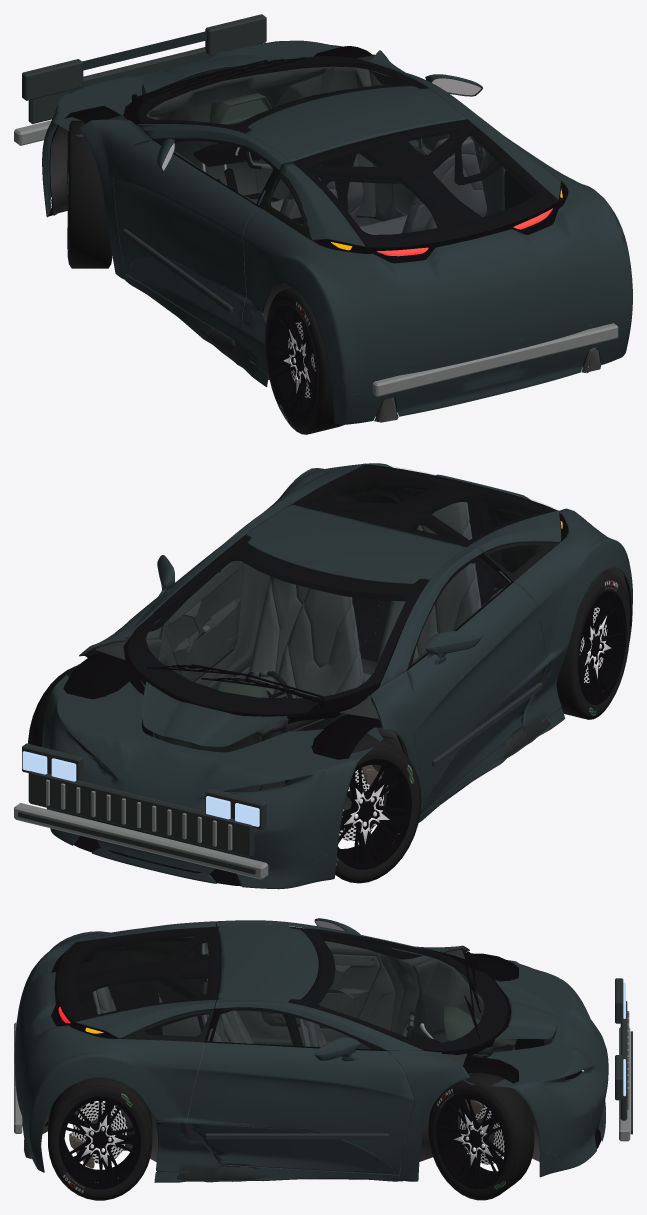
The model's file is cruiser-r1.glb.
3 renders of one model, top to bottom at view 1: azimuth 30°, elevation 25°; view 2: azimuth 150°, elevation 25°; view 3: azimuth 270°, elevation 25°, orthographic. The views are drawn at different scales.
Visible parts, largest first — view 1: BodyRearPanelsColor1, BodyDoorLColor1, BodyPanelsColor2, BodyRoofPanel, InteriorRearHatch, BodyPillars, InteriorPillar, VT1 fixed VT1 dark steel grille and bumper rubber, InteriorDashMid, WheelFrontL, BodyHood, BodyWindshieldGasket (+20 smaller); view 2: BodyHood, BodyDoorLColor1, BodyWindshieldGasket, BodyRearPanelsColor1, BodyRoofPanel, VT1 fixed VT1 dark steel grille and bumper rubber, InteriorSeatsColor1, InteriorFloor, BodyPillars, InteriorSeatsColor2, WheelFrontLRim, InteriorPillar (+24 smaller); view 3: BodyDoorRColor1, BodyRearPanelsColor1, BodyHood, BodyPillars, BodyRoofPanel, BodyDoorRColor2, BodyWindshieldGasket, WheelFrontR, BodyPanelsColor2, WheelRearRRim, WheelFrontRRim, WheelRearR (+24 smaller).
Boxes of the visible parts, x1=… form: BodyRearPanelsColor1: x1=243, y1=116, x2=632, y2=395; BodyDoorLColor1: x1=113, y1=139, x2=258, y2=302; BodyPanelsColor2: x1=43, y1=186, x2=631, y2=424; BodyRoofPanel: x1=246, y1=86, x2=466, y2=161; InteriorRearHatch: x1=280, y1=120, x2=557, y2=253; BodyPillars: x1=79, y1=50, x2=477, y2=279; InteriorPillar: x1=292, y1=120, x2=481, y2=227; VT1 fixed VT1 dark steel grille and bumper rubber: x1=22, y1=14, x2=266, y2=123; InteriorDashMid: x1=148, y1=65, x2=332, y2=195; WheelFrontL: x1=67, y1=120, x2=112, y2=268; BodyHood: x1=42, y1=40, x2=370, y2=202; BodyWindshieldGasket: x1=123, y1=56, x2=427, y2=133; BodyHood: x1=42, y1=636, x2=383, y2=889; BodyDoorLColor1: x1=407, y1=582, x2=548, y2=814; BodyWindshieldGasket: x1=123, y1=536, x2=428, y2=723; BodyRearPanelsColor1: x1=264, y1=463, x2=632, y2=661; BodyRoofPanel: x1=246, y1=504, x2=466, y2=583; VT1 fixed VT1 dark steel grille and bumper rubber: x1=18, y1=743, x2=266, y2=874; InteriorSeatsColor1: x1=249, y1=502, x2=474, y2=698; InteriorFloor: x1=63, y1=495, x2=630, y2=886; BodyPillars: x1=79, y1=500, x2=482, y2=795; InteriorSeatsColor2: x1=271, y1=525, x2=478, y2=698; WheelFrontLRim: x1=337, y1=759, x2=411, y2=869; InteriorPillar: x1=243, y1=482, x2=503, y2=609; BodyDoorRColor1: x1=187, y1=1042, x2=414, y2=1174; BodyRearPanelsColor1: x1=14, y1=921, x2=216, y2=1145; BodyHood: x1=438, y1=951, x2=608, y2=1169; BodyPillars: x1=215, y1=920, x2=469, y2=1181; BodyRoofPanel: x1=217, y1=924, x2=318, y2=1002; BodyDoorRColor2: x1=187, y1=1123, x2=398, y2=1174; BodyWindshieldGasket: x1=289, y1=926, x2=511, y2=1056; WheelFrontR: x1=428, y1=1073, x2=534, y2=1200; BodyPanelsColor2: x1=15, y1=1038, x2=605, y2=1182; WheelRearRRim: x1=59, y1=1096, x2=141, y2=1189; WheelFrontRRim: x1=436, y1=1094, x2=507, y2=1188; WheelRearR: x1=48, y1=1078, x2=152, y2=1200.
Size of the model in its own units: 2.54 by 1.44 by 4.54.
37 materials, 5 textured.
